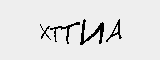А: (103, 17, 124, 44)
И: (79, 18, 105, 47)
Т: (61, 22, 81, 45), (49, 24, 61, 44)
Х: (38, 22, 50, 41)
